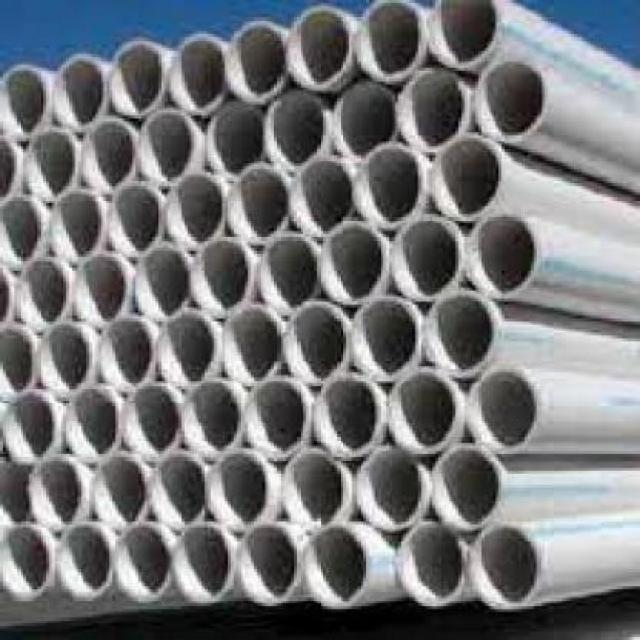pipe: (385, 365, 473, 459), (424, 130, 509, 224), (422, 289, 507, 380), (393, 66, 478, 155), (350, 296, 433, 387), (349, 139, 429, 233), (394, 521, 474, 615), (468, 520, 546, 616), (313, 377, 396, 466), (428, 446, 510, 532), (470, 361, 543, 457), (470, 57, 552, 142), (388, 218, 466, 307), (300, 525, 375, 616), (466, 213, 545, 299), (239, 379, 319, 462), (356, 450, 434, 535), (316, 222, 393, 307), (354, 0, 430, 86), (282, 299, 356, 387), (331, 75, 404, 163), (205, 447, 278, 535), (286, 0, 355, 92), (186, 239, 260, 324), (171, 523, 244, 609), (222, 305, 295, 390), (278, 446, 351, 531), (222, 17, 291, 106), (225, 164, 298, 248), (261, 88, 330, 176), (153, 312, 227, 394), (181, 377, 252, 462), (33, 322, 104, 405), (143, 448, 214, 530), (233, 525, 304, 607), (254, 234, 323, 318), (60, 379, 128, 464), (423, 0, 503, 71), (0, 384, 66, 470), (129, 242, 197, 324), (166, 34, 232, 118), (105, 34, 170, 119), (109, 526, 178, 606), (164, 171, 232, 252), (289, 163, 360, 240), (49, 53, 114, 136), (102, 185, 170, 264), (204, 100, 267, 183), (51, 520, 113, 603), (70, 250, 133, 330), (124, 383, 187, 463), (90, 452, 153, 532), (11, 257, 76, 334), (134, 111, 199, 187), (78, 118, 143, 194), (47, 191, 110, 268), (99, 317, 162, 394), (29, 456, 89, 532), (1, 519, 55, 601), (22, 125, 78, 204), (0, 61, 52, 141), (2, 194, 47, 271), (0, 319, 40, 404), (0, 459, 32, 528), (0, 135, 22, 209)
